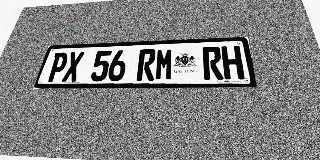5: (90, 51, 112, 81)
6: (107, 50, 128, 81)
H: (221, 46, 245, 80)
M: (155, 48, 173, 81)
P: (46, 52, 70, 82)
R: (202, 46, 224, 80), (136, 49, 156, 81)
X: (61, 52, 85, 82)
